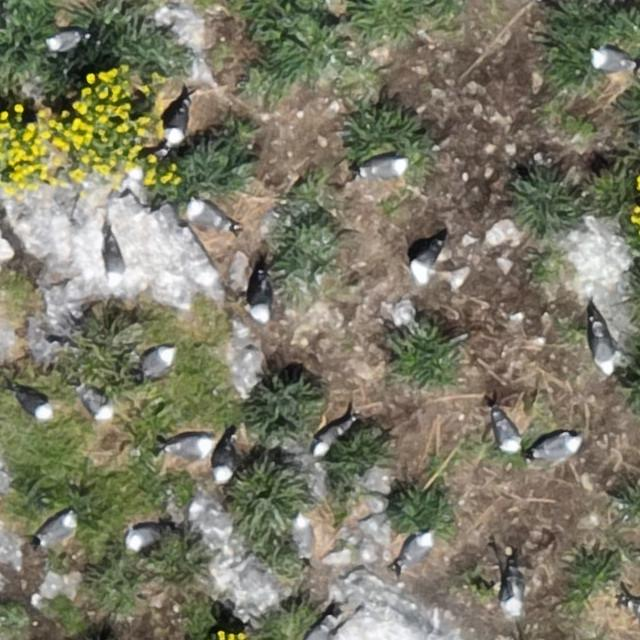umineko: (586, 311, 618, 378), (188, 197, 236, 232), (496, 556, 522, 616), (104, 235, 124, 291), (535, 435, 576, 460), (400, 534, 432, 566), (168, 436, 212, 457), (144, 347, 174, 377), (41, 513, 74, 540), (316, 423, 347, 451), (496, 416, 520, 452), (166, 104, 187, 144), (18, 394, 50, 420), (411, 246, 437, 278), (592, 51, 631, 72), (82, 392, 110, 421), (252, 283, 272, 323), (364, 158, 404, 178), (215, 442, 235, 481), (126, 528, 160, 549), (46, 33, 80, 52), (294, 517, 310, 556), (628, 600, 639, 621)
